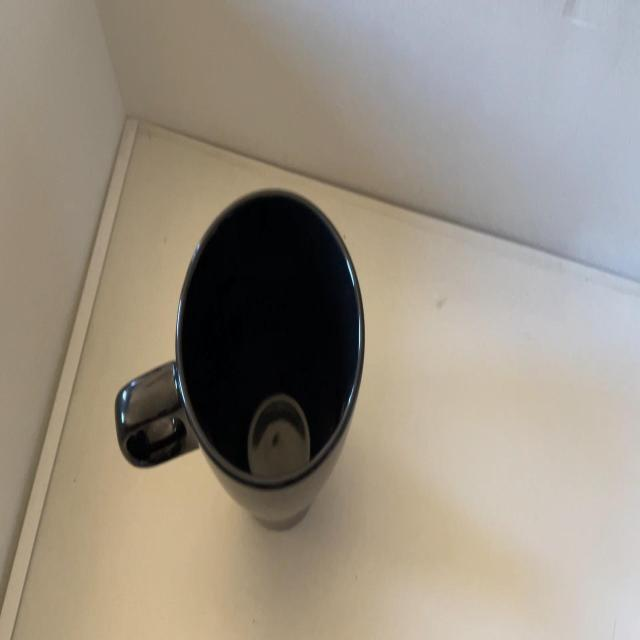cup: (117, 186, 366, 534)
